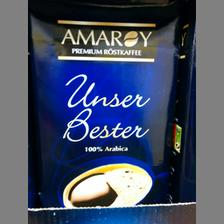Kaffee: (28, 0, 180, 206)
